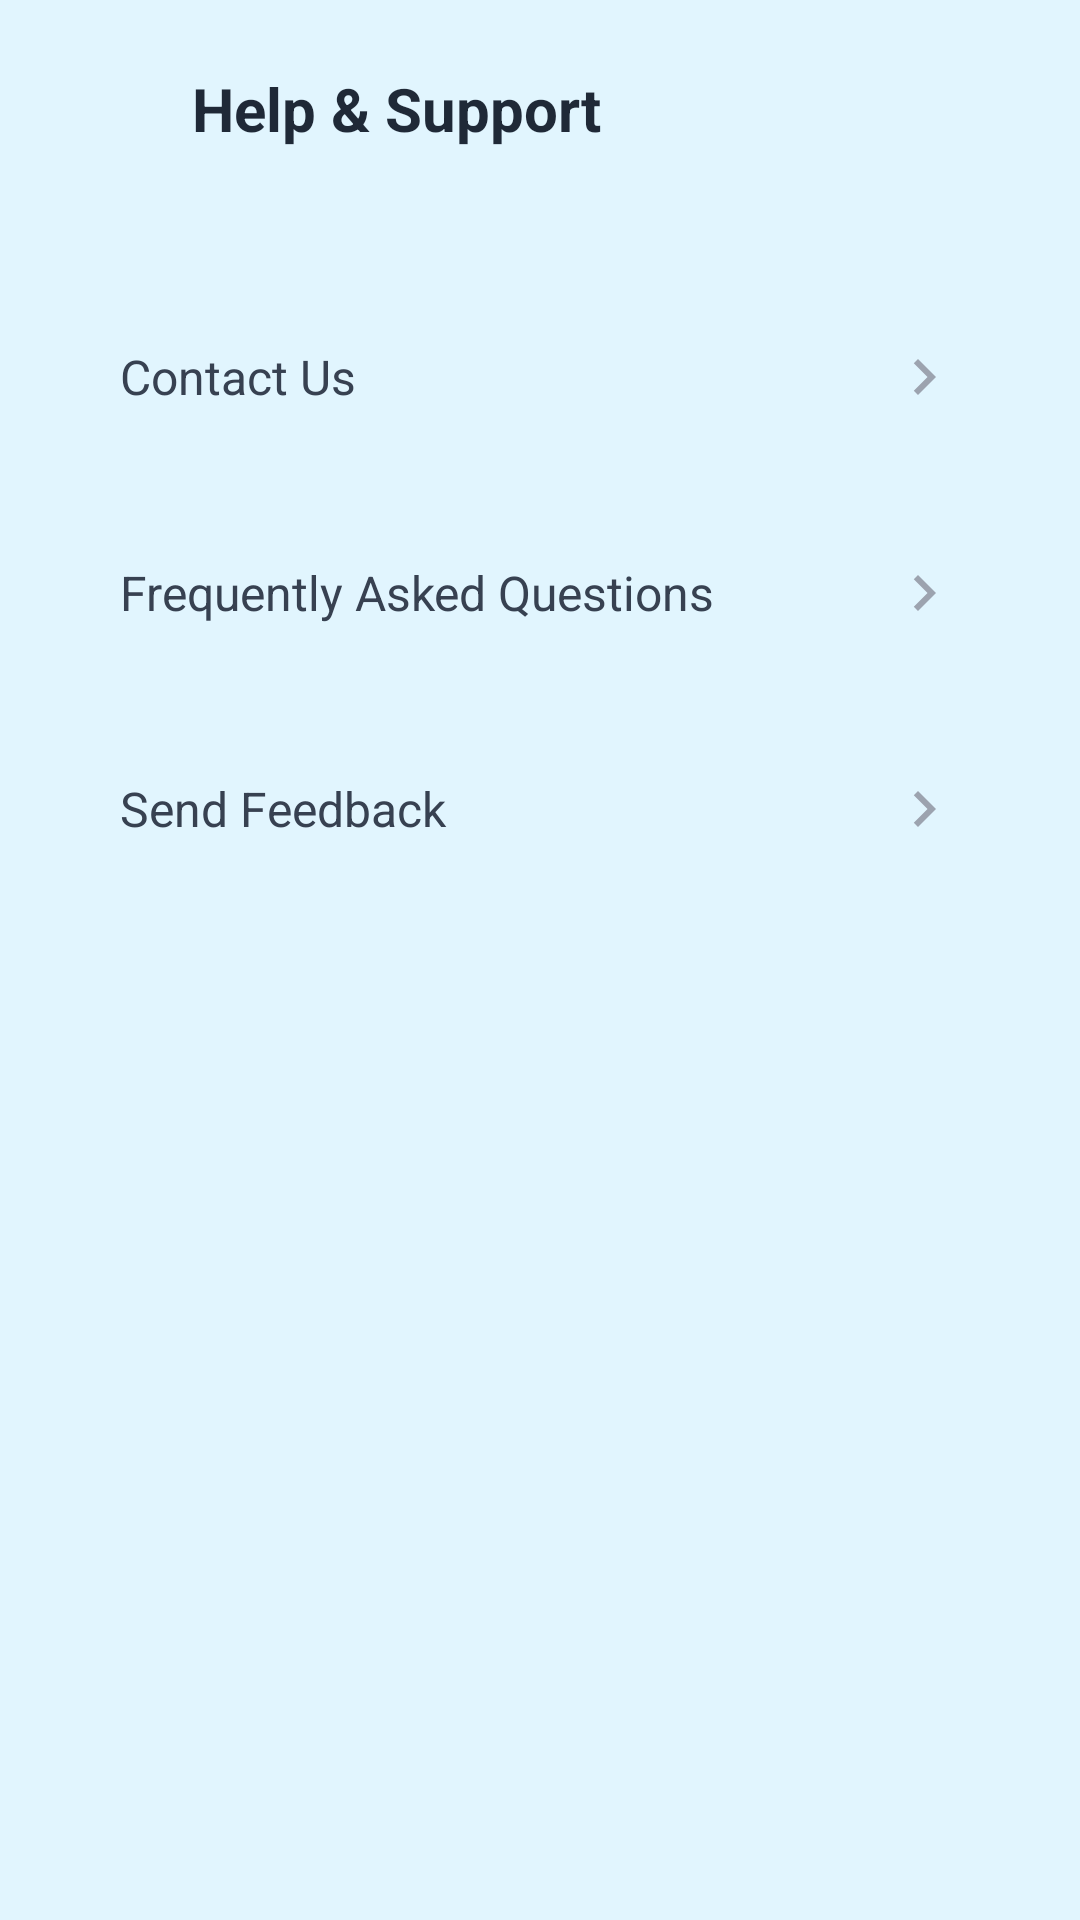

Named icons in this screenshot (1080×1920) and their centers, (x=x, y=y):
chevron right: (x=925, y=377), (x=925, y=593), (x=925, y=809)
